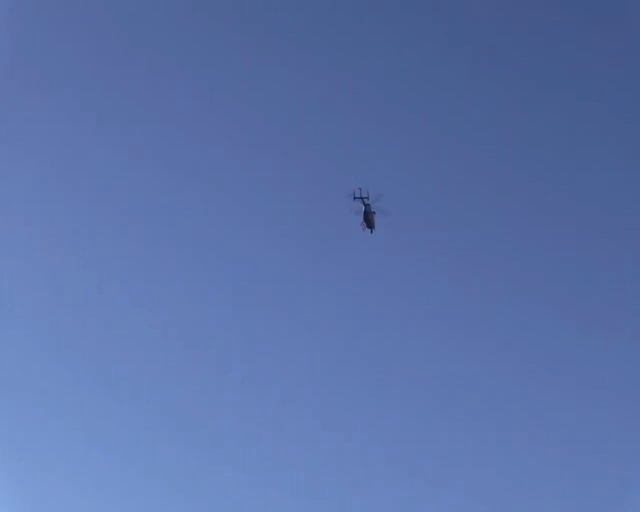HELICOPTER: (350, 186, 385, 234)
